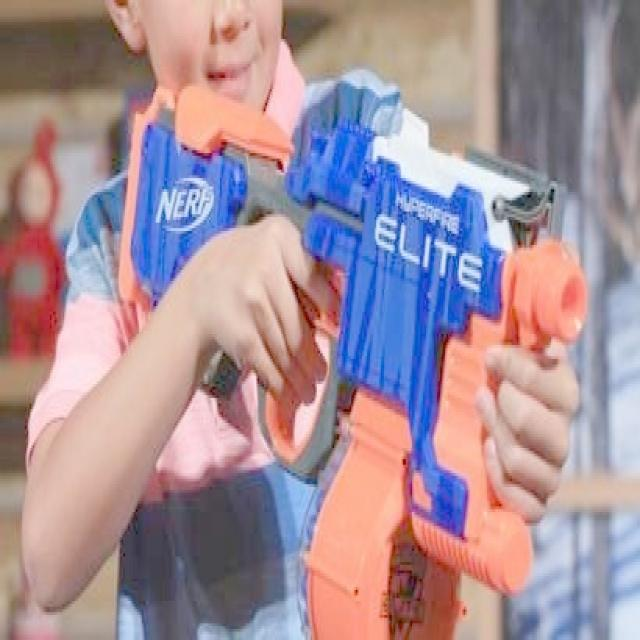Nerf gun: (107, 58, 592, 638)
